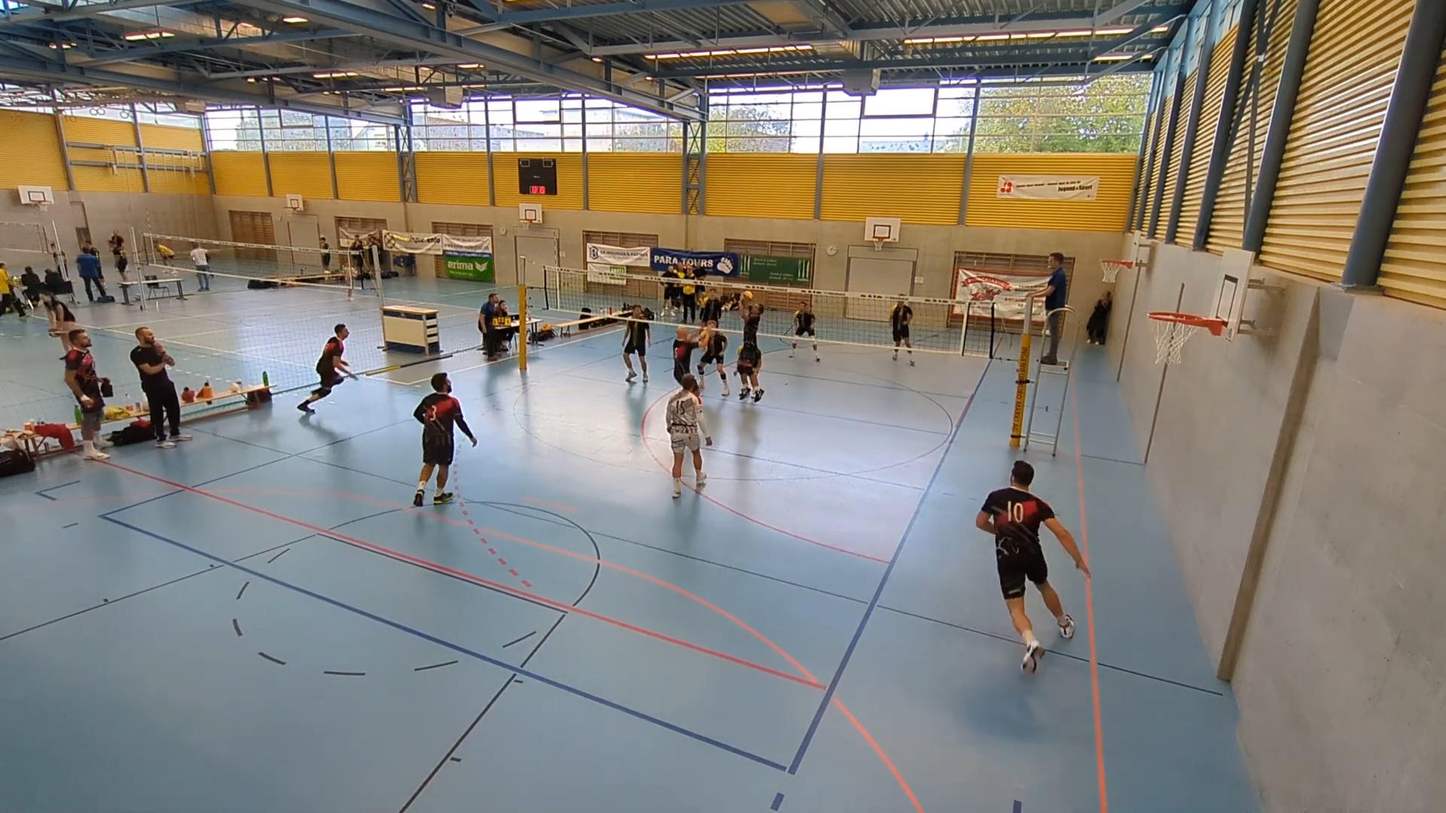alzata: (734, 300, 765, 404)
